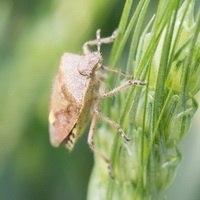insect: (49, 29, 146, 149)
